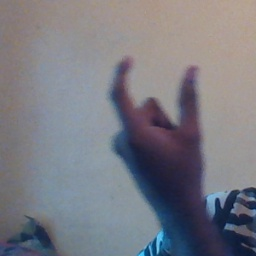U: (106, 52, 214, 188)
